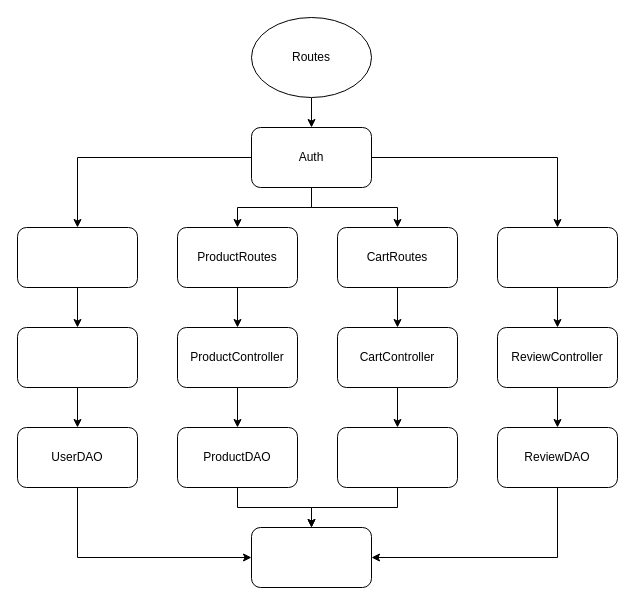
Image size: 635x605. Some labels were removed from this diagram. The shapes that lost their labels are listed below. From the top down, each one's centre as x and y in pixels, then its label:
[77,257]: UserRoutes
[557,257]: ReviewRoutes
[77,357]: UserController
[397,457]: CartDAO
[311,557]: Database
